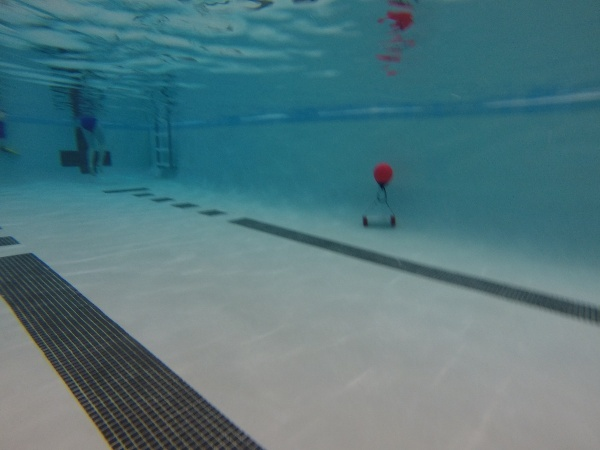buoy_red: (369, 162, 394, 190)
